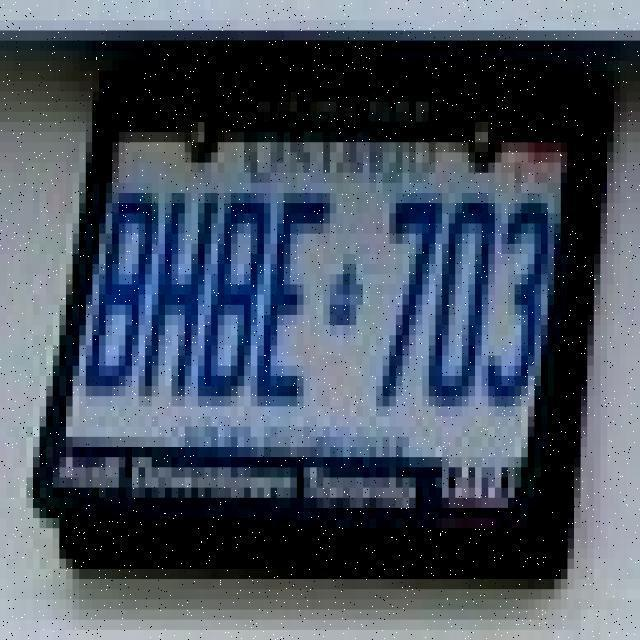LicensePlate: (13, 20, 604, 621)
